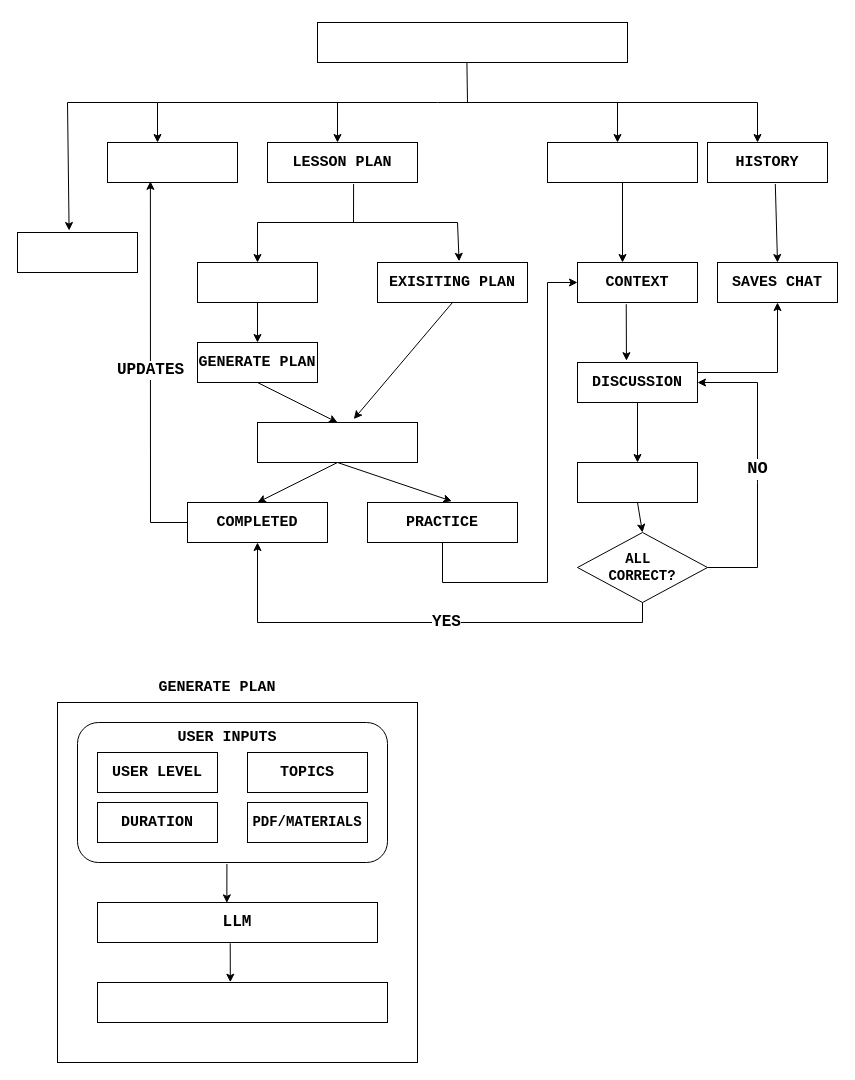
The diagram is 855 pixels wide and 1080 high, and some of its shapes have lost their labels. The shapes that lost their labels are listed below. From the top down, each one's box as (x1, y1, x2, y2) in pixels, then its label:
(316, 22, 628, 62): USER INTERFACE (HOME PAGE)
(106, 142, 238, 182): TRACK PROGRESS
(546, 142, 698, 182): CHATBOT
(16, 232, 138, 272): EXPLAIN YOUTUBE VIDEOS
(196, 262, 318, 302): NEW PLAN
(256, 422, 418, 462): SYLLABUS
(576, 462, 698, 502): QUIZ
(96, 982, 388, 1022): GENERATE SYLLABUS
